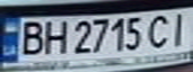1: (109, 15, 127, 52)
2: (69, 17, 93, 55)
5: (124, 15, 148, 52)
7: (90, 16, 112, 53)
B: (15, 18, 48, 56)
C: (145, 11, 175, 48)
H: (39, 18, 69, 56)
I: (166, 9, 193, 46)
